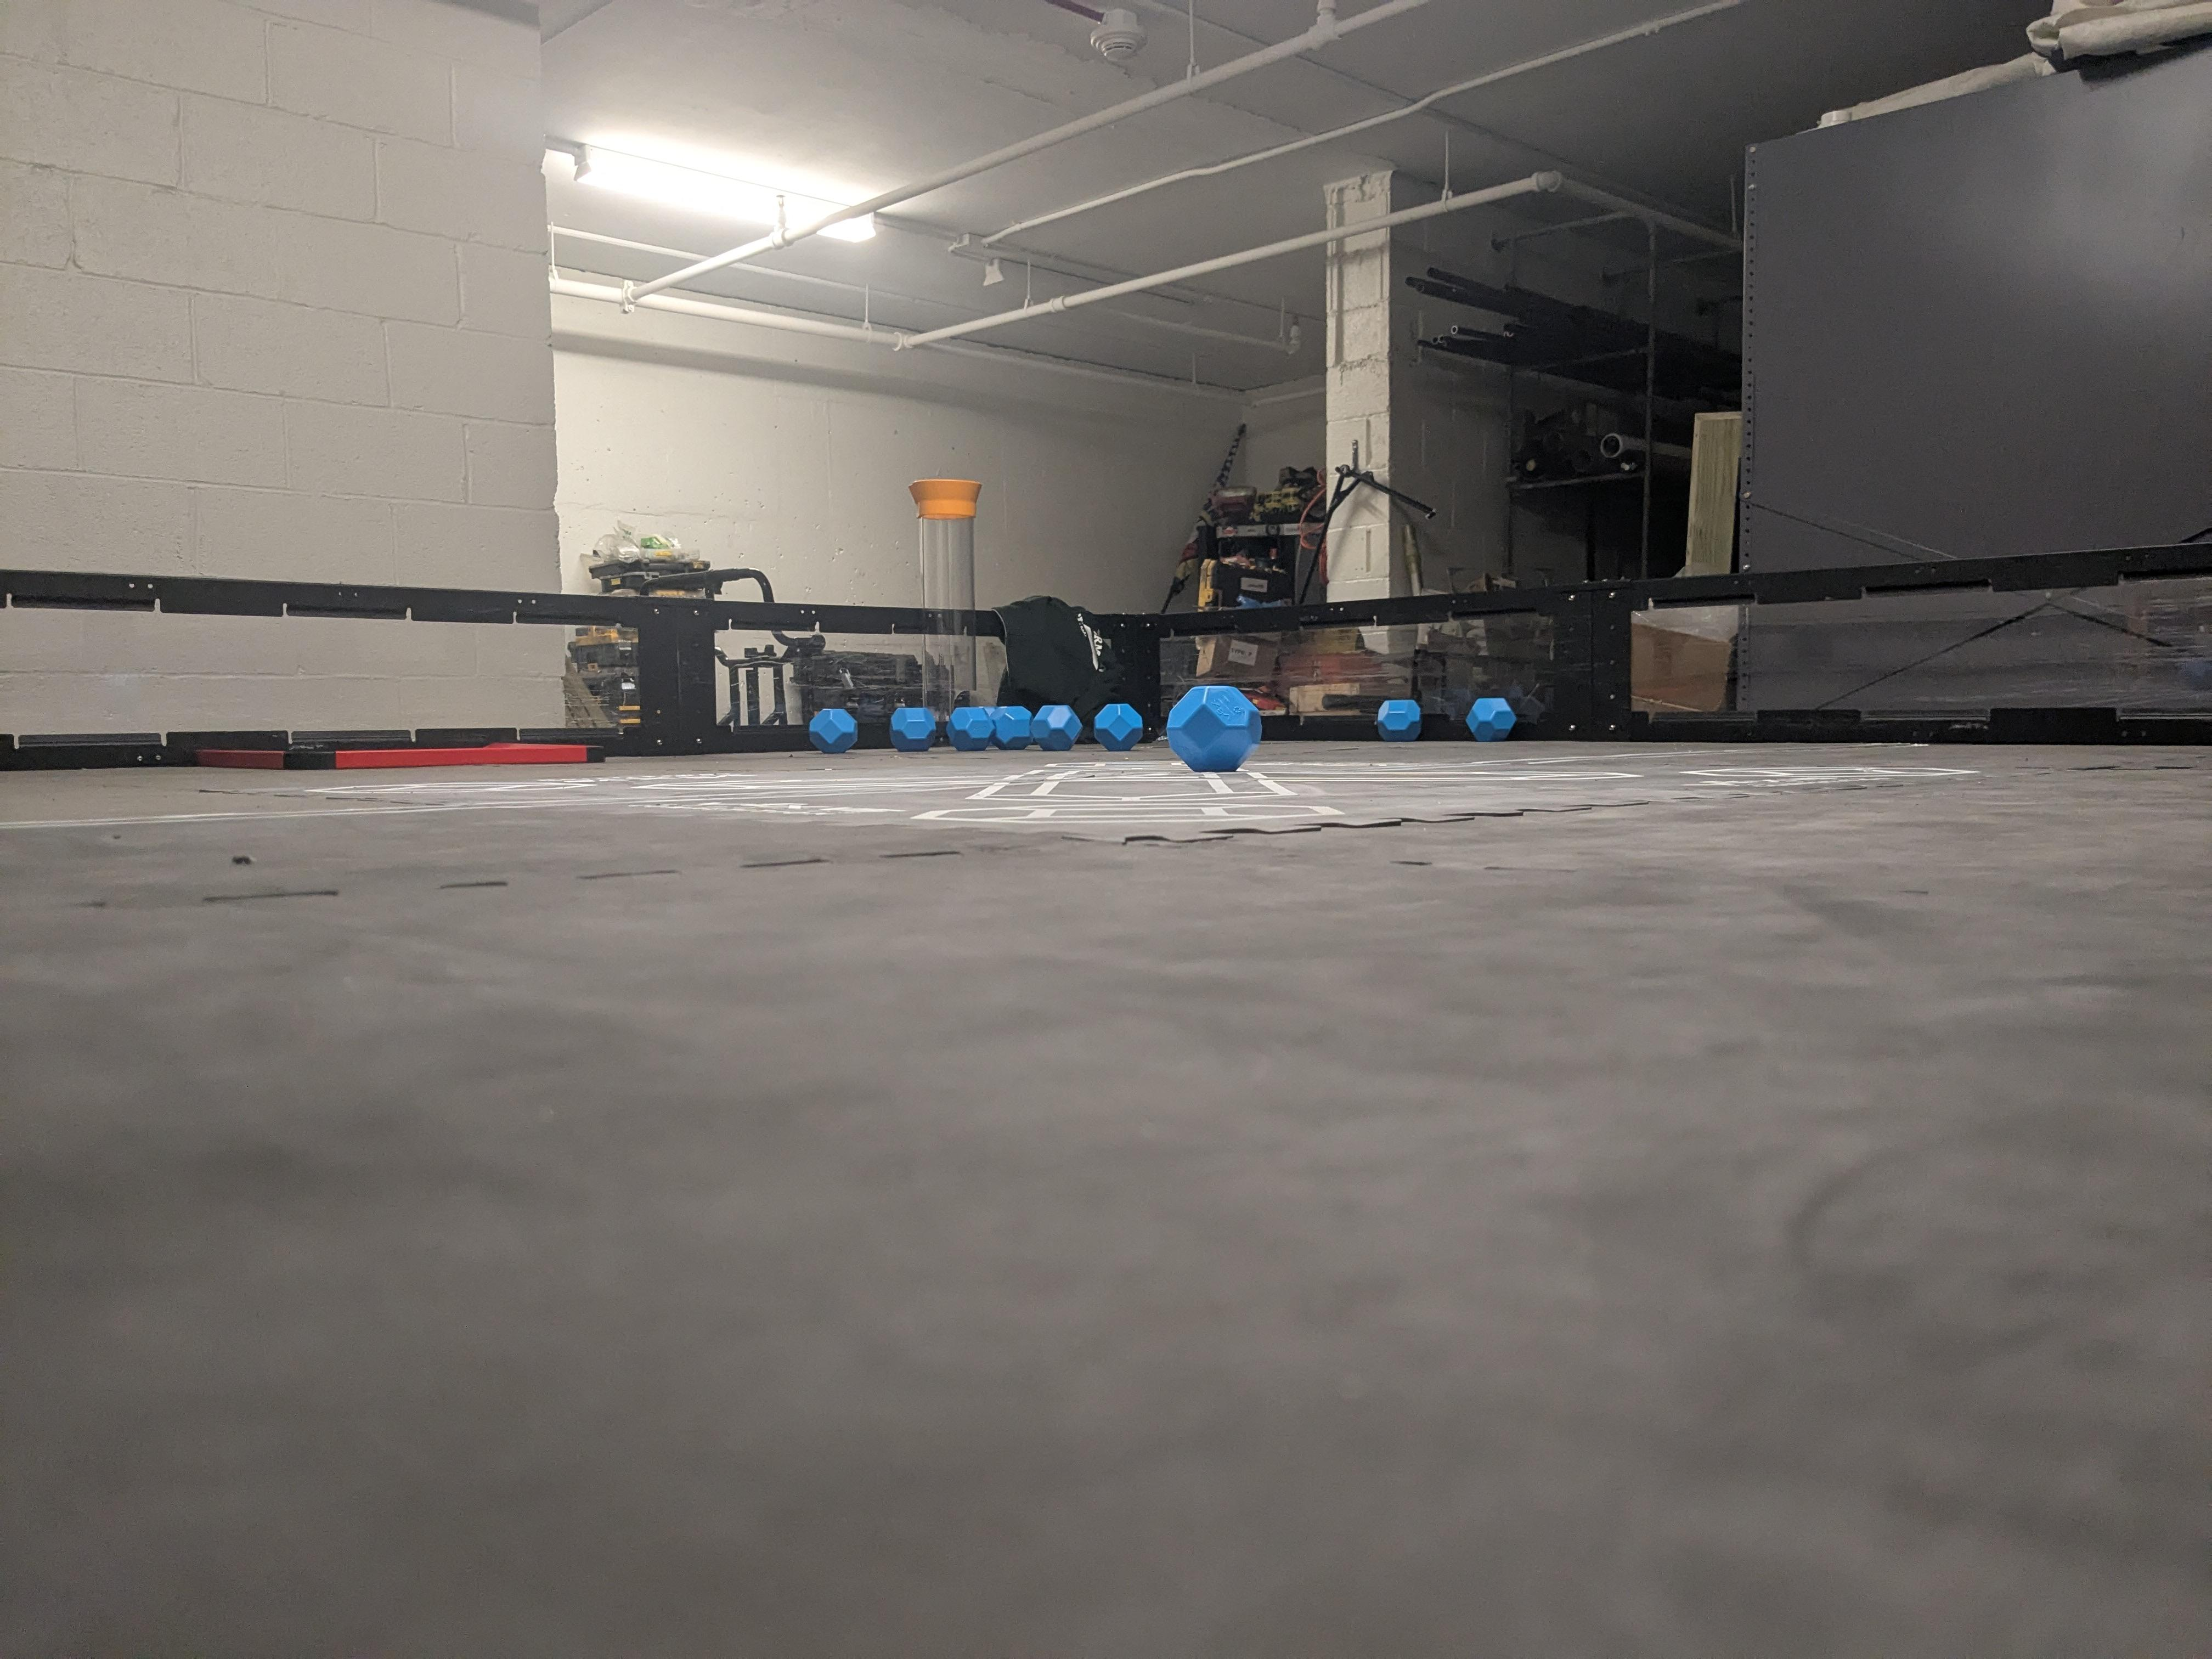Vex-Pieces-BLUE: (1169, 687, 1258, 770), (1031, 704, 1082, 751), (1094, 704, 1143, 751), (808, 708, 857, 753), (1467, 697, 1515, 742), (948, 706, 995, 751), (890, 706, 937, 751), (991, 706, 1033, 749), (1378, 699, 1421, 741)
